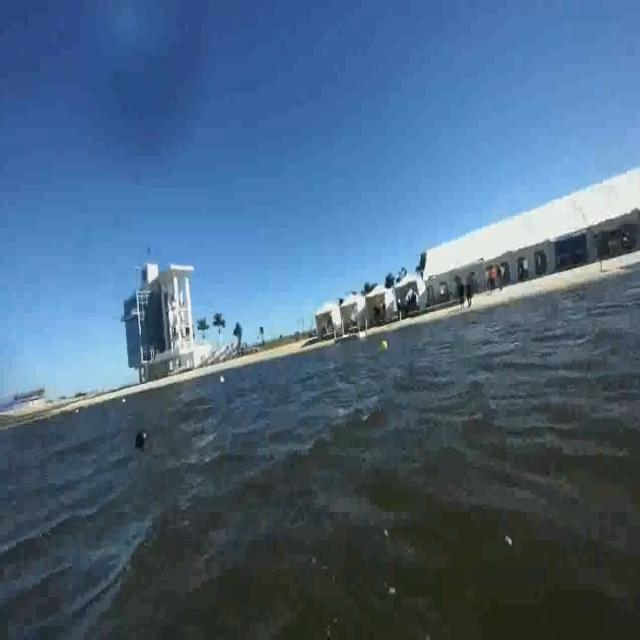black-buoy: (134, 429, 152, 454)
yellow-buoy: (380, 339, 390, 354)
